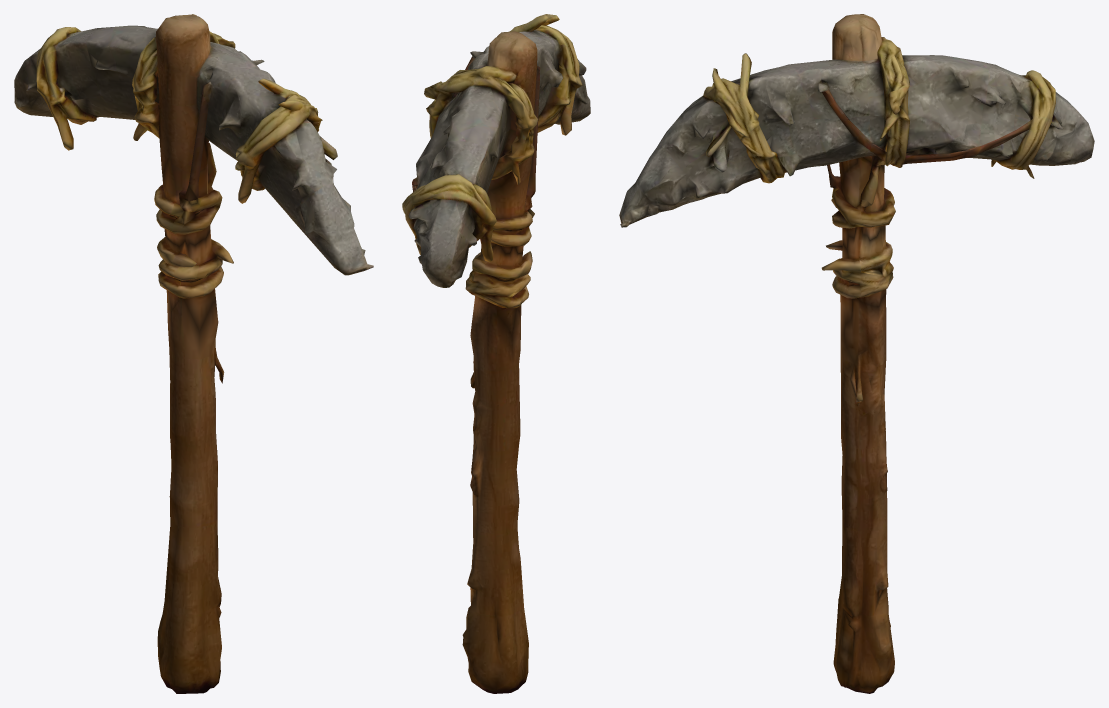
The model's file is pico_piedra.glb.
The picture shows the model from 3 angles, left to right: view 1: azimuth 30°, elevation 25°; view 2: azimuth 150°, elevation 25°; view 3: azimuth 270°, elevation 25°; orthographic projection. The views are drawn at different scales.
Visible parts, largest first — view 1: tripo_node_0f2ed260-1b5d-4320-8a5b-226c75686c46; view 2: tripo_node_0f2ed260-1b5d-4320-8a5b-226c75686c46; view 3: tripo_node_0f2ed260-1b5d-4320-8a5b-226c75686c46.
Boxes of the visible parts, x1,y1,x2,y2 form: tripo_node_0f2ed260-1b5d-4320-8a5b-226c75686c46: (14,14,373,693); tripo_node_0f2ed260-1b5d-4320-8a5b-226c75686c46: (402,14,590,693); tripo_node_0f2ed260-1b5d-4320-8a5b-226c75686c46: (619,14,1094,693).
Bounding box in the file's own units: 0.2295 × 0.9991 × 0.6493.
Materials: 1 (1 with a texture image).
